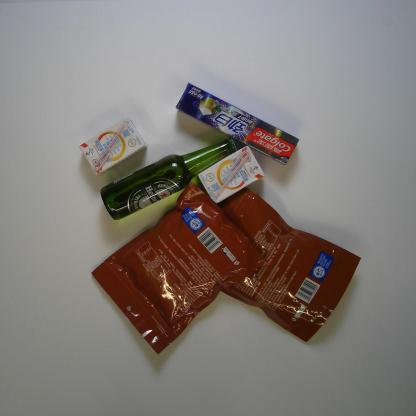Alcohol: (99, 137, 237, 223)
Dried Food: (88, 180, 265, 357), (216, 187, 364, 343)
Milk: (78, 116, 148, 177), (198, 146, 266, 204)
Personal Hygiene: (175, 82, 300, 167)
